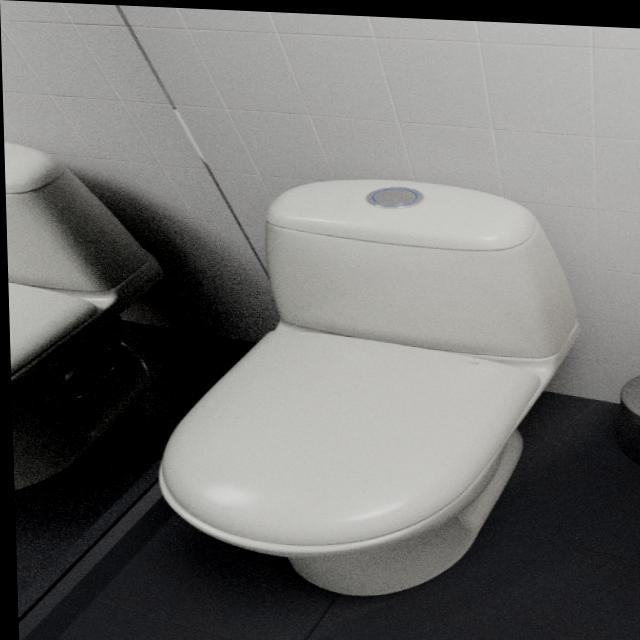toilet: (147, 166, 587, 601)
